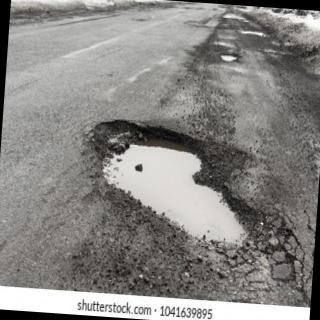pothole: (93, 120, 306, 289)
